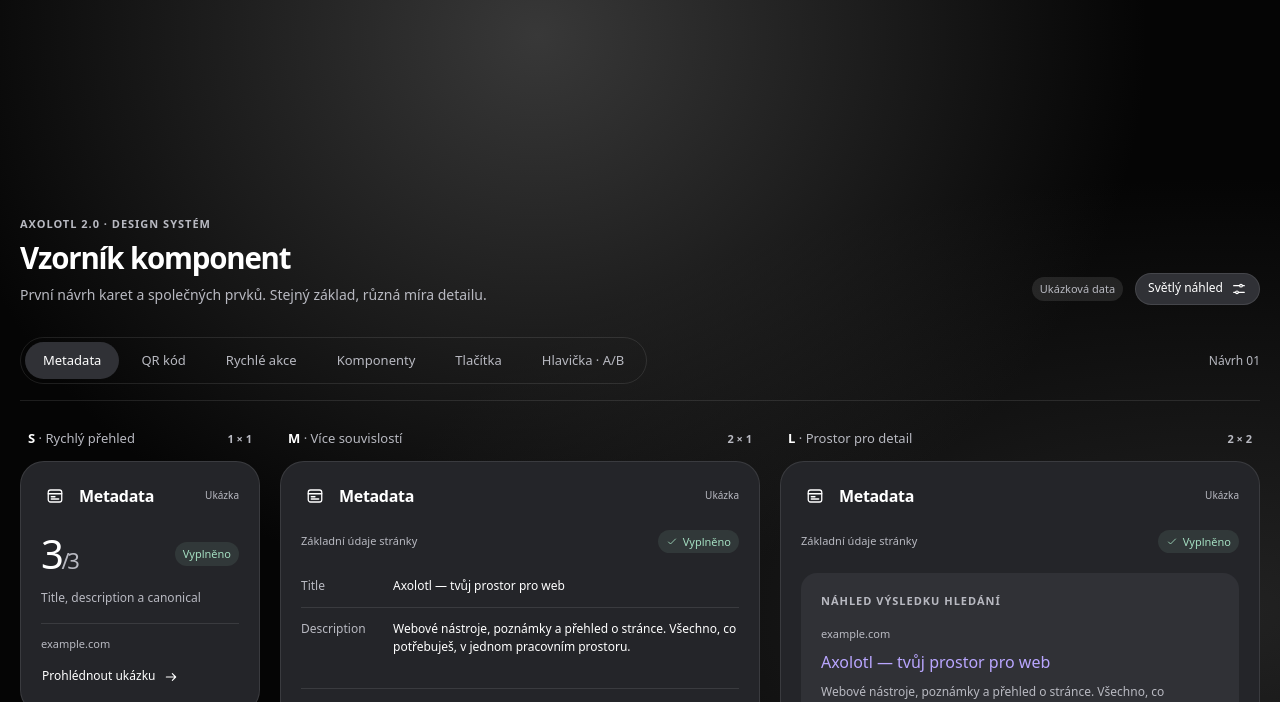
Scenario: isolated header catalog › disables cursor-tracking lighting when reduced motion is requested
(page scrolled)
Click the tab "Hlavička · A/B" at x=583, y=361, box [524,342,642,379]
(page scrolled)
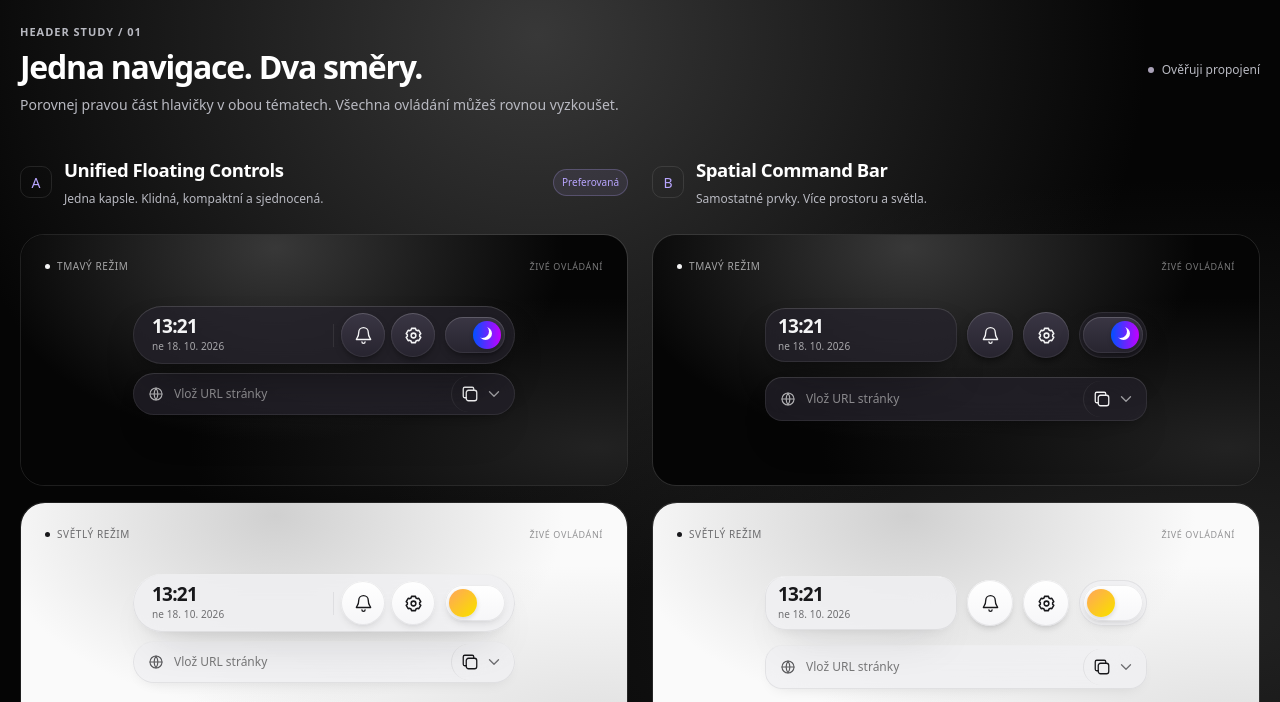
Expected: the element named "Varianta A – tmavý režim" is shown, [20,234,628,486]
